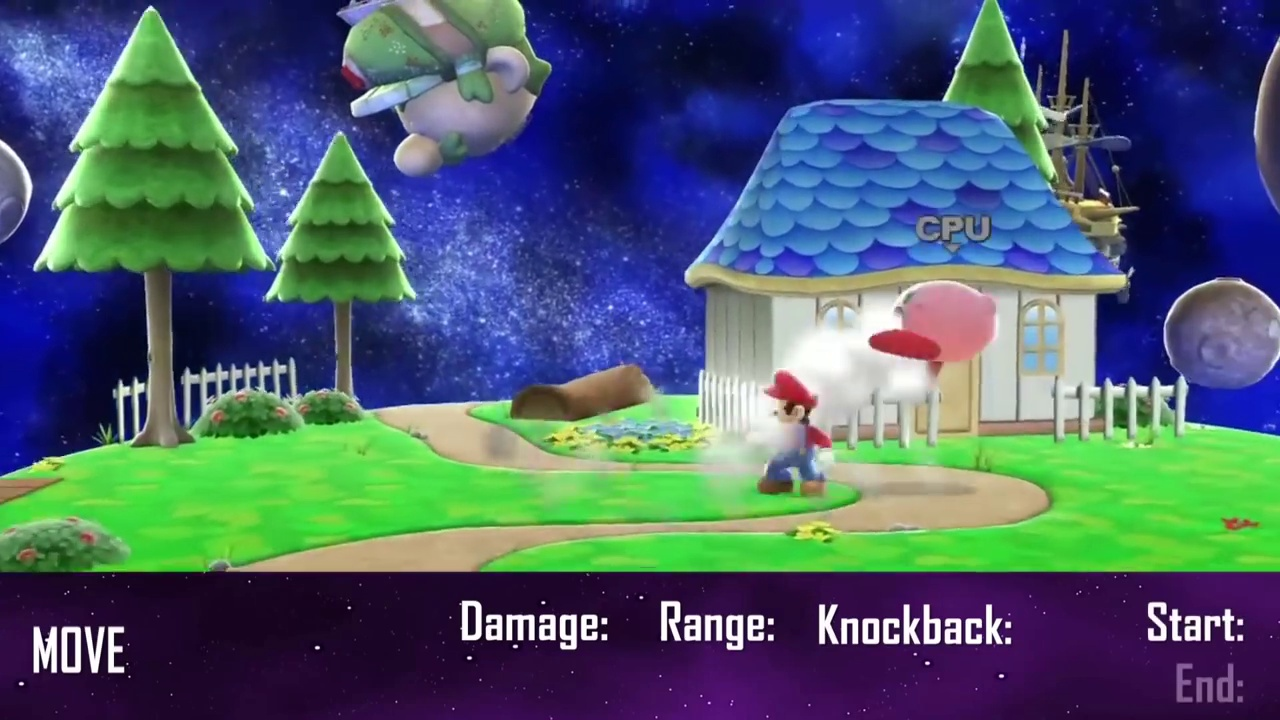Mario: (759, 368, 834, 496)
